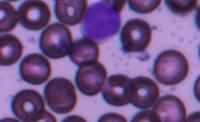L: (82, 0, 121, 43)
